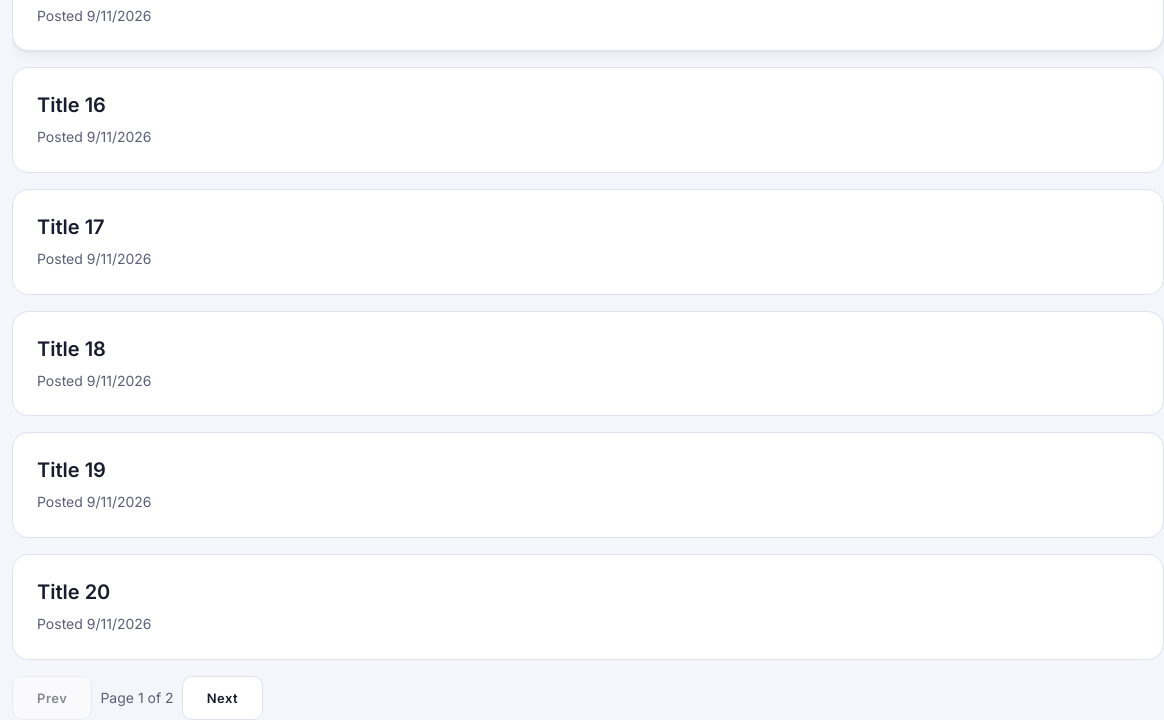
Test: MyPostingsPage list › clicking Next re-runs the query with page: 2 and renders the new page
This screenshot has width=1164, height=720.
(page scrolled)
Expected: the text "Page 1 of 2" is shown, [100,687,174,709]
Expected: the button "Prev" is disabled, [12,676,92,719]
Click the button "Next" at [222, 698], box [182,676,263,719]
(page scrolled)
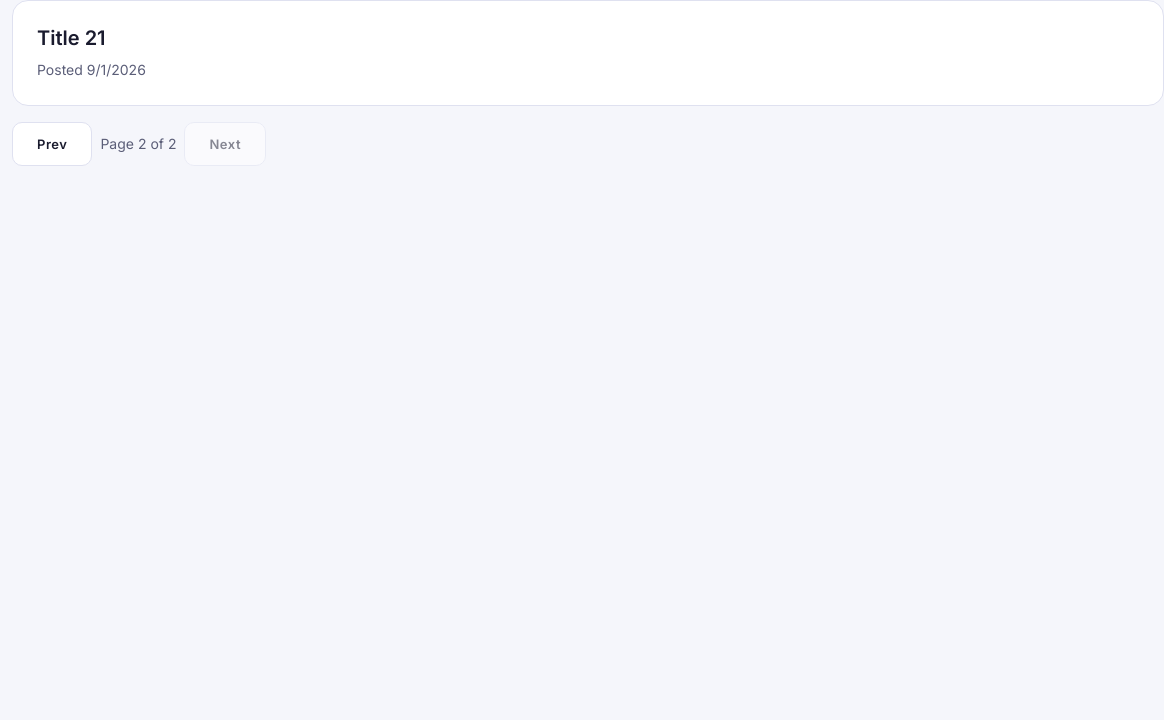
Expected: the text "Page 2 of 2" is shown, [100,133,176,155]
Expected: the heading "Title 21" is shown, [37,26,106,50]
